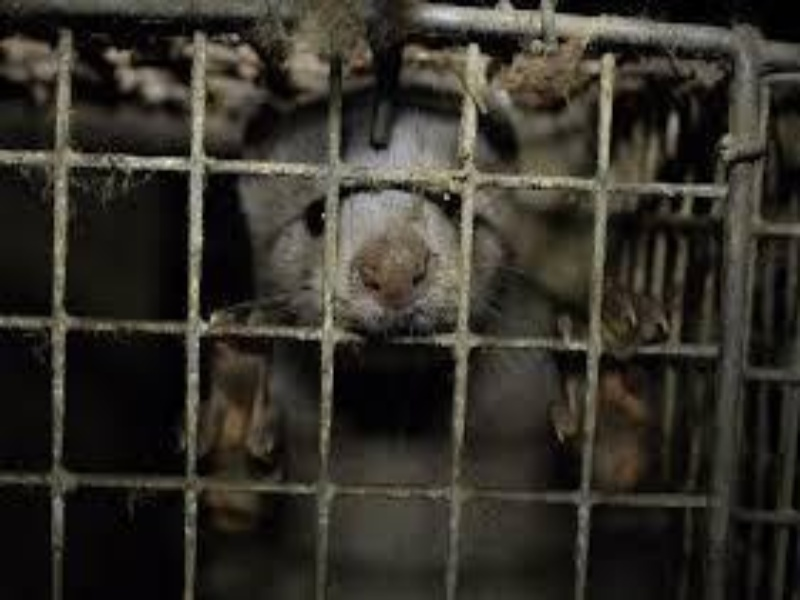minkish: (229, 86, 568, 578)
